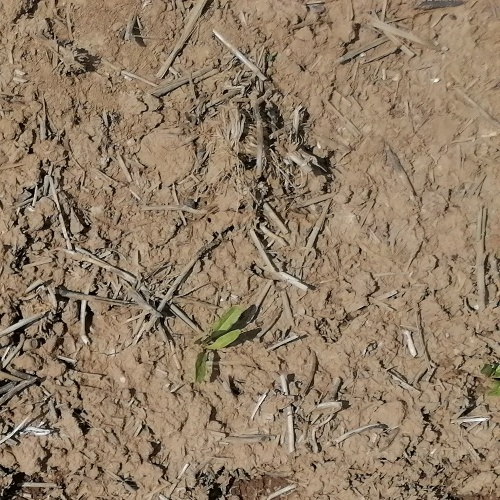beet: (192, 302, 249, 380), (479, 360, 500, 402)
